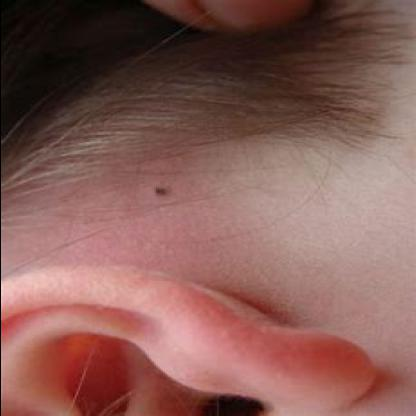Tick: (137, 173, 175, 205)
